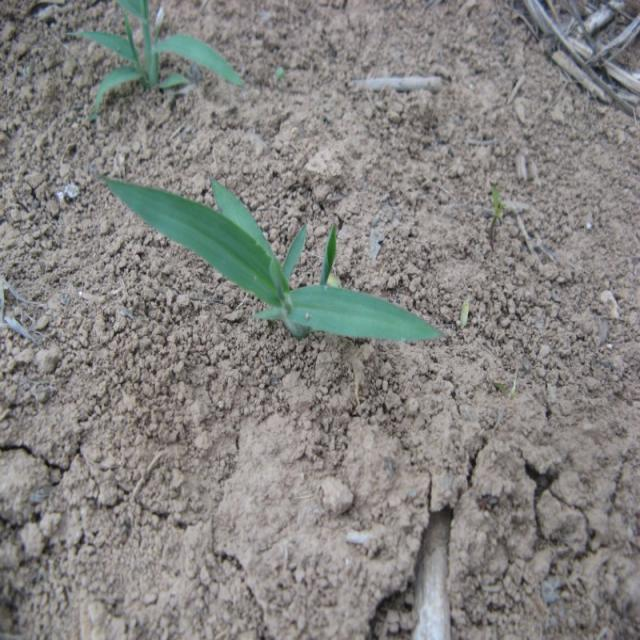bg: (93, 164, 449, 351)
